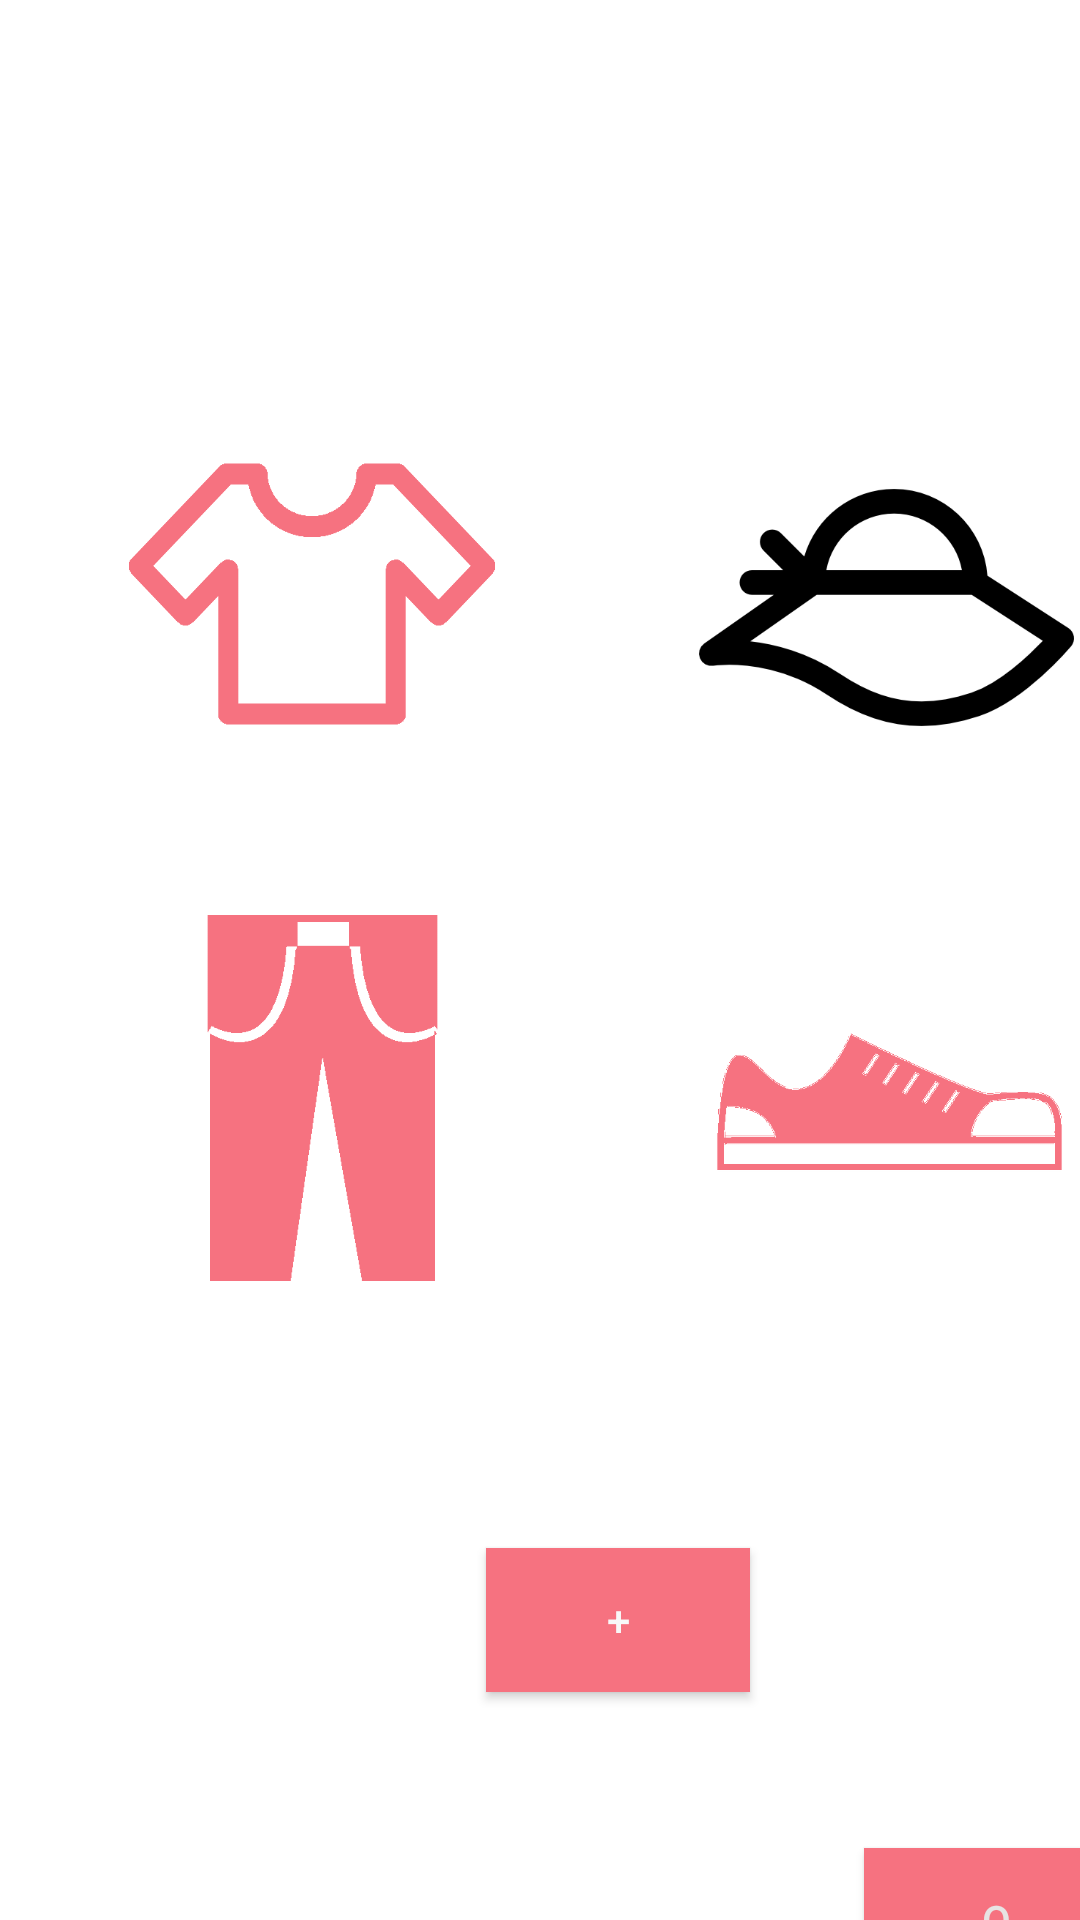

Named icons in this screenshot (1080 × 1920) and their centers, (x=x, y=y):
zapatos: (x=889, y=1101)
